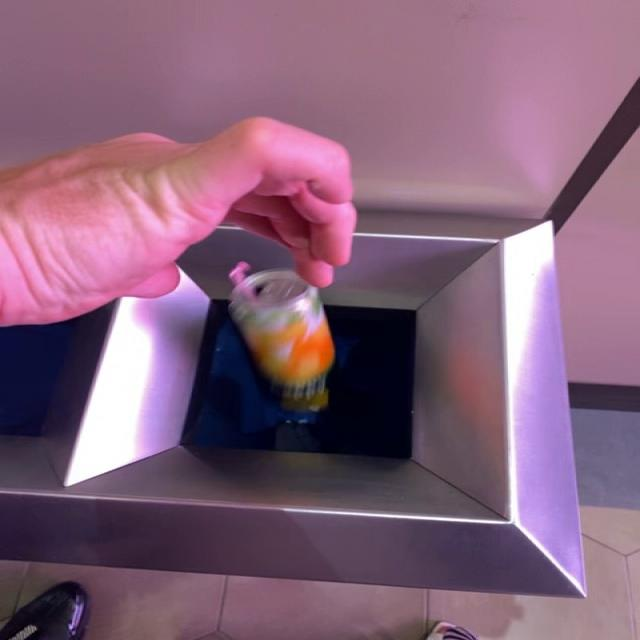metal: (231, 271, 335, 412)
